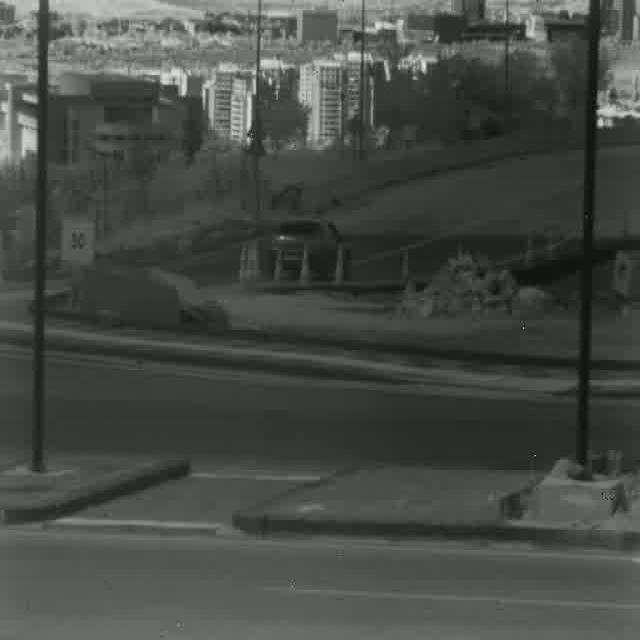Car: (270, 218, 352, 278)
